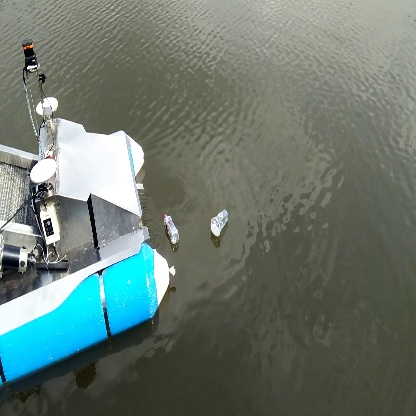bottle: (161, 211, 184, 248), (208, 209, 230, 240)
